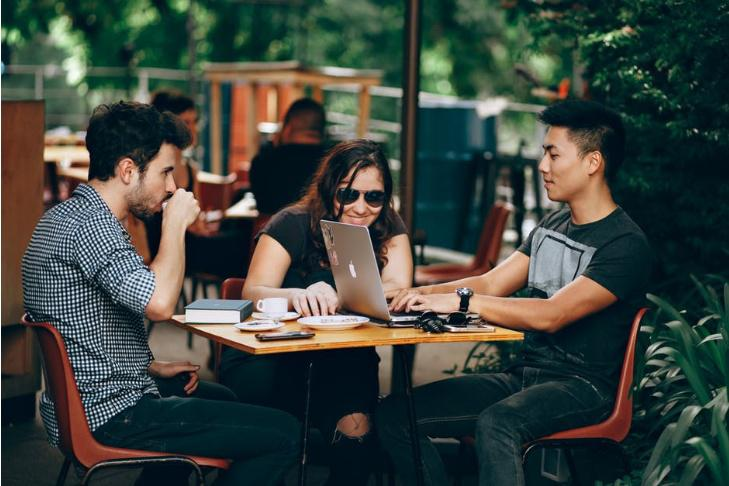face: (537, 126, 588, 200), (132, 142, 176, 221), (334, 163, 387, 228)
